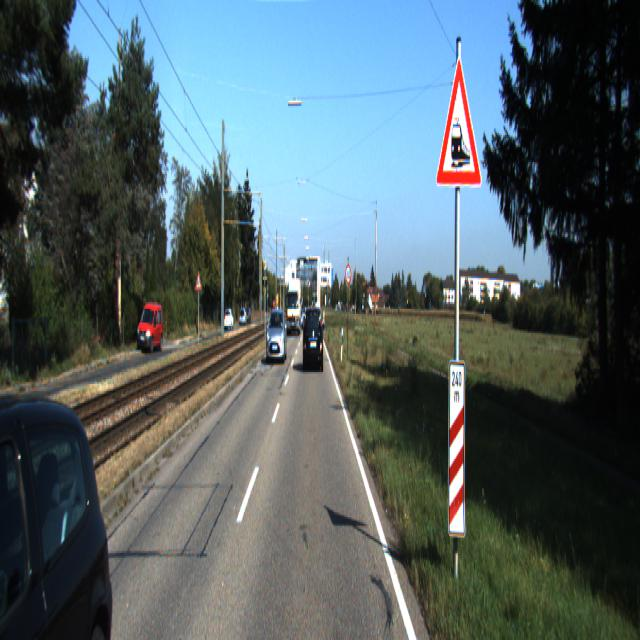Car: (0, 350, 134, 638), (137, 302, 164, 355), (304, 305, 324, 373), (266, 306, 288, 364), (287, 276, 301, 337)
